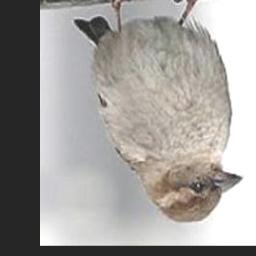Sparrow: (72, 0, 243, 224)
